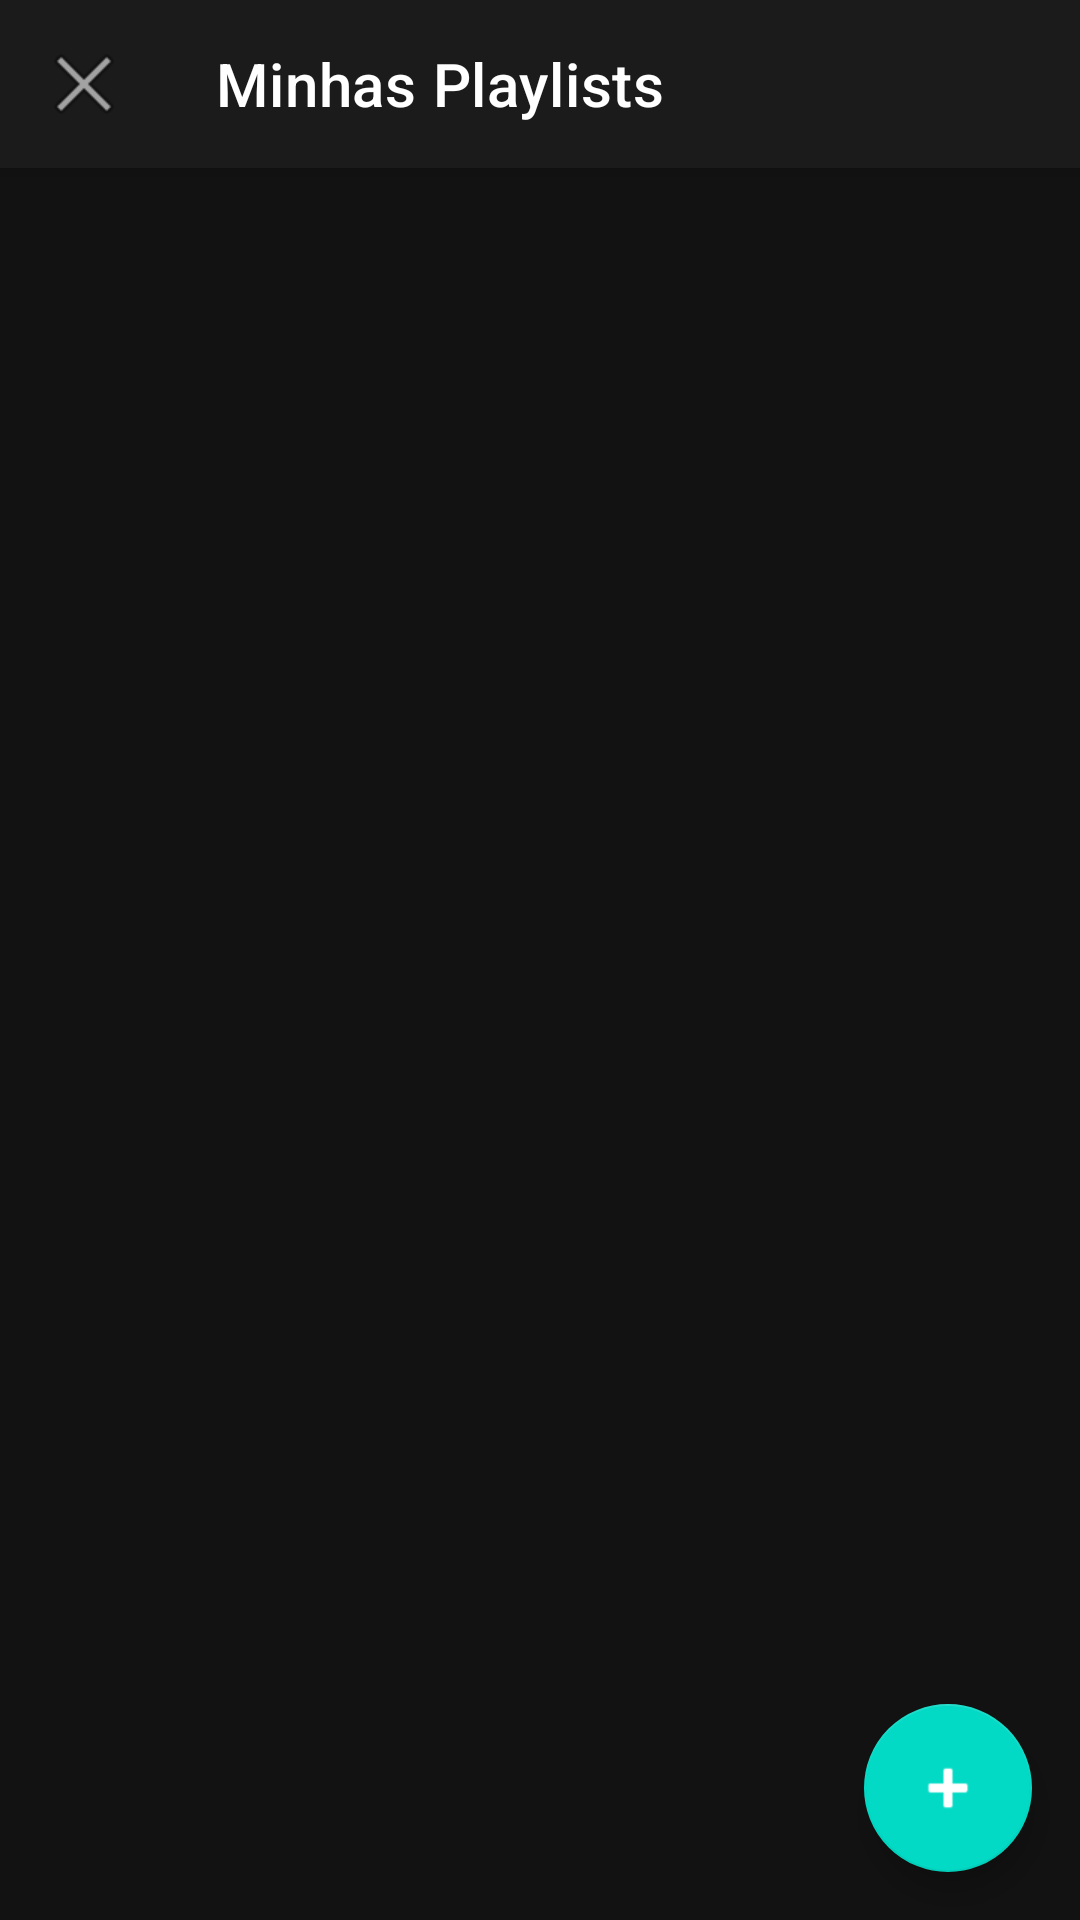

Where to tap for icons on this 1080 × 1920 app screen, as point (x, y):
Criar nova playlist: point (948, 1788)
